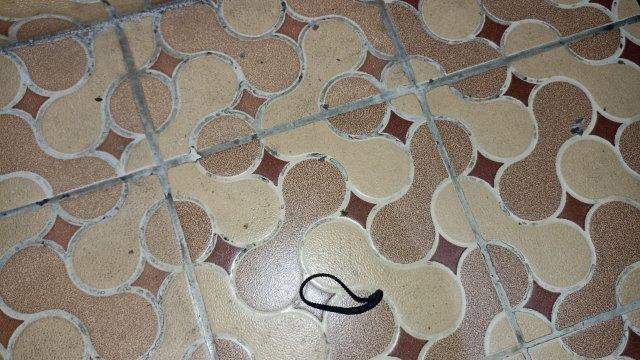karet: (301, 274, 383, 314)
